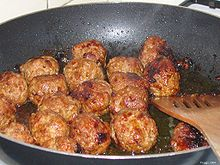meatballs: (30, 63, 142, 140)
